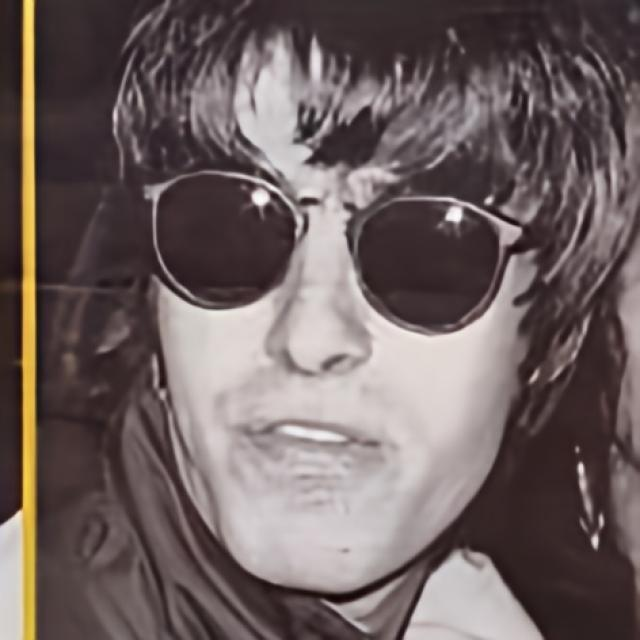neutral: (143, 26, 533, 596)
